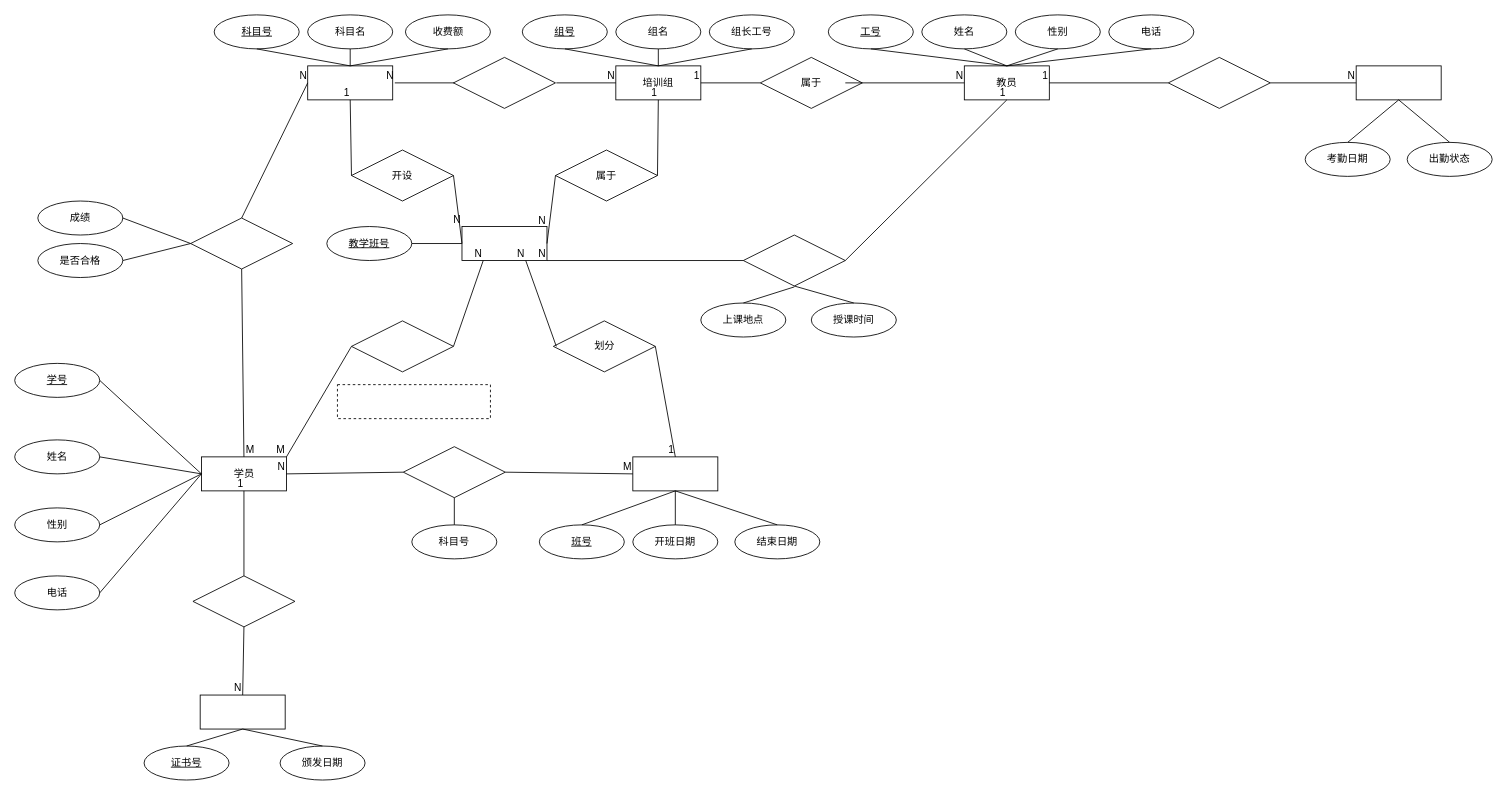
The diagram is 1508 pixels wide and 796 high, and some of its shapes have lost their labels. Each missing label, with the centre of its shape:
"参加" belongs at (x=402, y=346).
"合格证书" belongs at (x=242, y=711).
"培训班" belongs at (x=675, y=473).
"报名" belongs at (x=453, y=472).
"授课" belongs at (x=793, y=260).
"教学班" belongs at (x=504, y=243).
"科目" belongs at (x=350, y=82).
"约束：一个教学班学员人数≤15" belongs at (x=413, y=401).
"考勤" belongs at (x=1218, y=82).
"考勤记录" belongs at (x=1398, y=82).
"获得" belongs at (x=243, y=601).
"负责" belongs at (x=504, y=82).
"选报" belongs at (x=241, y=243).
